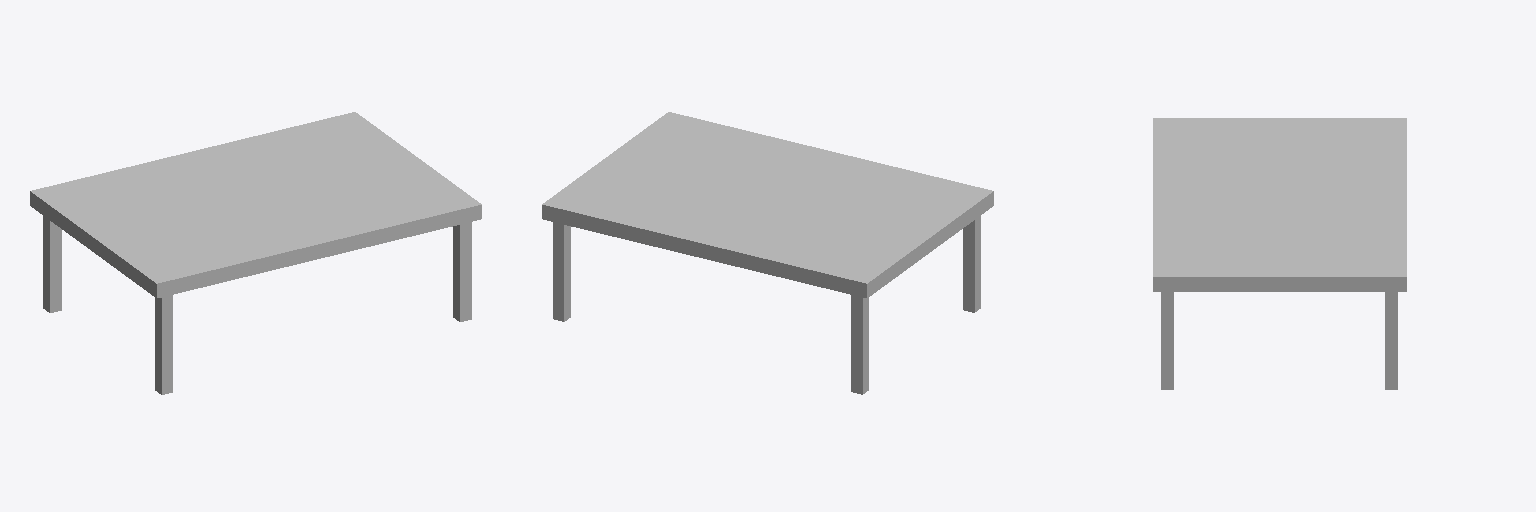
Rendered from Small Long Table LOD1.obj.
3 views of the same model, side by side, from view 1: azimuth 30°, elevation 25°; view 2: azimuth 150°, elevation 25°; view 3: azimuth 270°, elevation 25° (orthographic).
Parts seen in each view (by area): view 1: Table.001_Cube.041, Leg.022_Cube.044, Leg.023_Cube.045, Leg.017_Cube.042; view 2: Table.001_Cube.041, Leg.017_Cube.042, Leg.021_Cube.043, Leg.023_Cube.045; view 3: Table.001_Cube.041, Leg.022_Cube.044, Leg.021_Cube.043.
Boxes of the visible parts, x1,y1,x2,y2 form: Table.001_Cube.041: [30, 112, 481, 297]; Leg.022_Cube.044: [453, 222, 471, 321]; Leg.023_Cube.045: [155, 295, 172, 394]; Leg.017_Cube.042: [43, 216, 61, 312]; Table.001_Cube.041: [542, 112, 993, 297]; Leg.017_Cube.042: [851, 295, 868, 394]; Leg.021_Cube.043: [553, 222, 570, 321]; Leg.023_Cube.045: [963, 216, 980, 312]; Table.001_Cube.041: [1153, 118, 1406, 291]; Leg.022_Cube.044: [1161, 292, 1173, 389]; Leg.021_Cube.043: [1385, 292, 1397, 389].
Size of the model in its own units: 7.58 by 2.6 by 5.12.